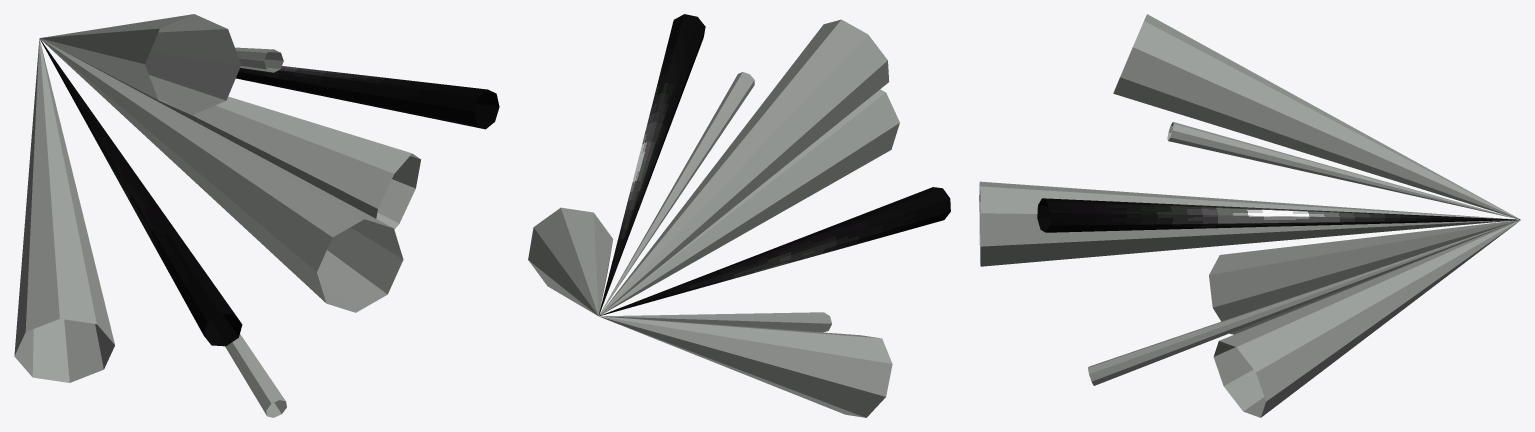
File: juqing_fuben_254_yuansufazhen_04_b.obj
3 renders of one model, left to right at view 1: azimuth 30°, elevation 25°; view 2: azimuth 150°, elevation 25°; view 3: azimuth 270°, elevation 25°, orthographic. The views are drawn at different scales.
Visible parts, largest first — view 1: Cylinder10, Cylinder08, Cylinder06, Cylinder12, Cylinder05, Cylinder07, Cylinder09, Cylinder11; view 2: Cylinder12, Cylinder08, Cylinder10, Cylinder07, Cylinder06, Cylinder05, Cylinder11, Cylinder09; view 3: Cylinder12, Cylinder06, Cylinder10, Cylinder08, Cylinder05, Cylinder09, Cylinder11.
Boxes of the visible parts, x1=… form: Cylinder10: x1=40, y1=39, x2=403, y2=312; Cylinder08: x1=14, y1=39, x2=114, y2=382; Cylinder06: x1=60, y1=49, x2=420, y2=229; Cylinder12: x1=39, y1=14, x2=241, y2=114; Cylinder05: x1=236, y1=66, x2=499, y2=129; Cylinder07: x1=40, y1=39, x2=242, y2=346; Cylinder09: x1=225, y1=334, x2=286, y2=417; Cylinder11: x1=235, y1=47, x2=283, y2=72; Cylinder12: x1=599, y1=19, x2=889, y2=315; Cylinder08: x1=599, y1=316, x2=892, y2=417; Cylinder10: x1=600, y1=89, x2=899, y2=315; Cylinder07: x1=599, y1=187, x2=950, y2=316; Cylinder06: x1=528, y1=207, x2=613, y2=316; Cylinder05: x1=598, y1=14, x2=705, y2=315; Cylinder11: x1=599, y1=72, x2=754, y2=314; Cylinder09: x1=602, y1=312, x2=831, y2=332; Cylinder12: x1=1113, y1=14, x2=1519, y2=219; Cylinder06: x1=1213, y1=220, x2=1520, y2=417; Cylinder10: x1=979, y1=181, x2=1518, y2=266; Cylinder08: x1=1209, y1=220, x2=1520, y2=334; Cylinder05: x1=1037, y1=198, x2=1519, y2=232; Cylinder09: x1=1088, y1=221, x2=1517, y2=385; Cylinder11: x1=1167, y1=122, x2=1519, y2=219.
Bounding box in the file's own units: 348 × 324 × 462.
Materials: 2 (2 with a texture image).
